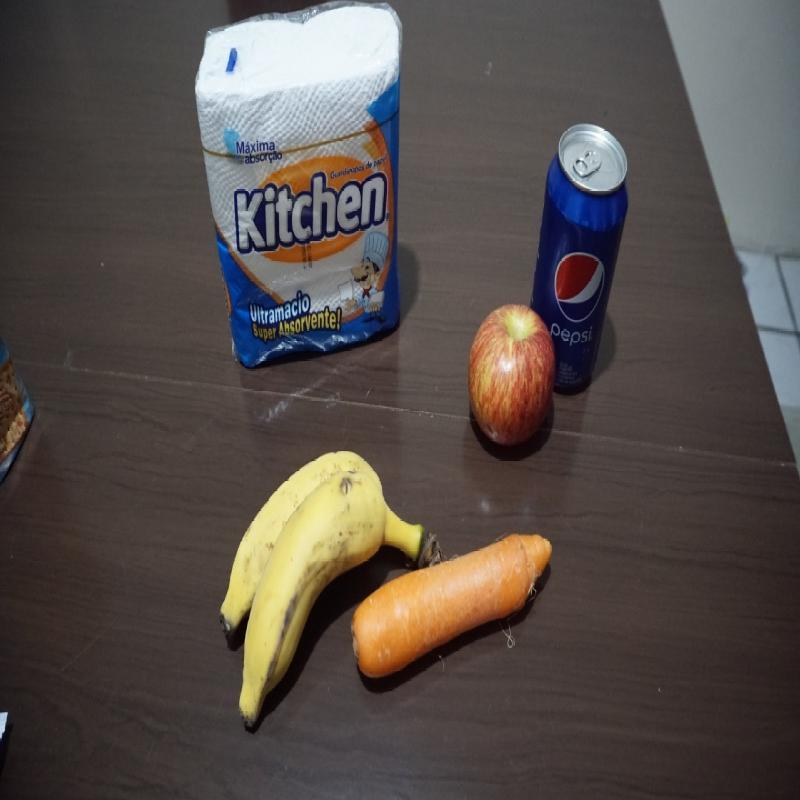Apple: (468, 301, 558, 453)
Banana: (218, 453, 443, 738)
Carrot: (350, 527, 556, 684)
Cracker: (0, 330, 36, 489)
Napkin: (198, 4, 412, 372)
Soda can: (528, 120, 631, 396)
